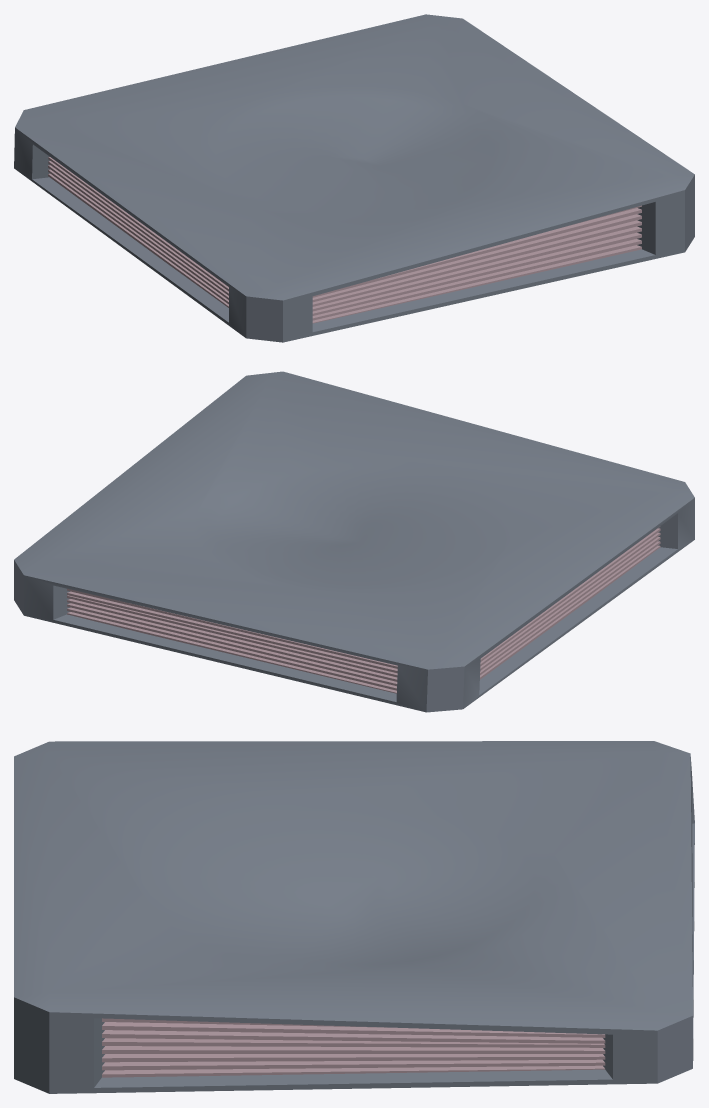
The model's file is 3_st_geometry-panic-factory_001.fbx.
3 renders of one model, top to bottom at view 1: azimuth 30°, elevation 25°; view 2: azimuth 150°, elevation 25°; view 3: azimuth 270°, elevation 25°, orthographic. The views are drawn at different scales.
Visible parts, largest first — view 1: 3_st.geometry-panic-factory.001; view 2: 3_st.geometry-panic-factory.001; view 3: 3_st.geometry-panic-factory.001.
Part boxes in pixels (x1=…): 3_st.geometry-panic-factory.001: x1=14, y1=14, x2=694, y2=342; 3_st.geometry-panic-factory.001: x1=14, y1=371, x2=694, y2=712; 3_st.geometry-panic-factory.001: x1=14, y1=741, x2=694, y2=1093.
Bounding box in the file's own units: 0.9509 × 0.1483 × 0.9526.
